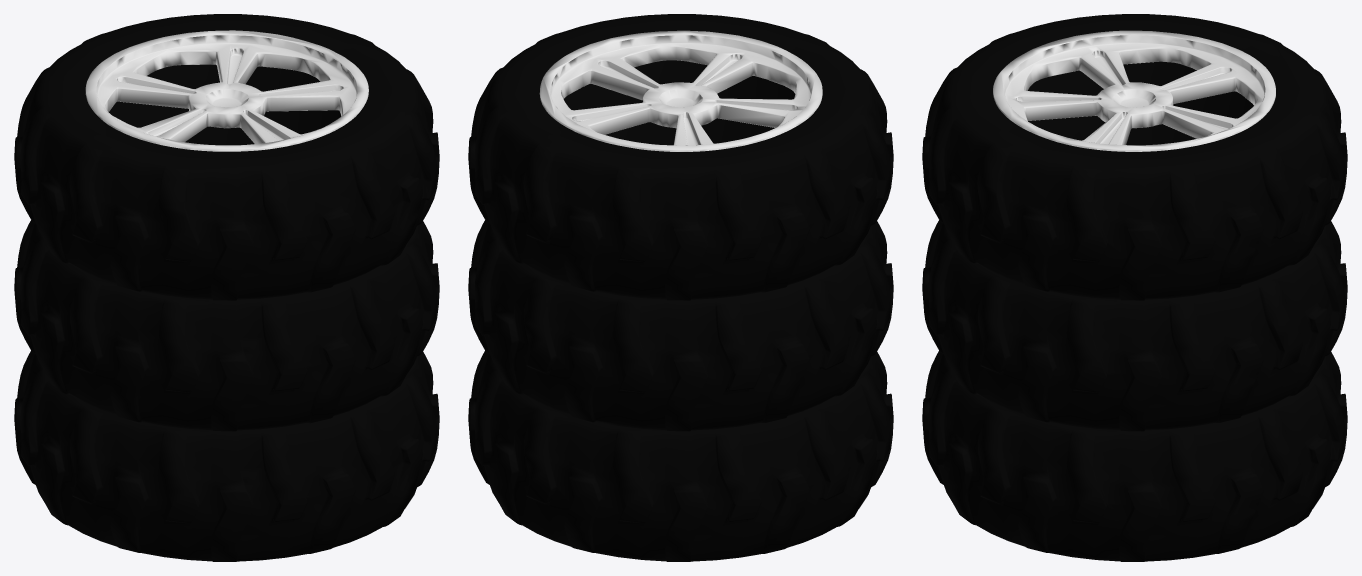
Rendered from Tires.fbx.
3 views of the same model, side by side, from view 1: azimuth 30°, elevation 25°; view 2: azimuth 150°, elevation 25°; view 3: azimuth 270°, elevation 25° (orthographic).
Parts seen in each view (by area): view 1: 20881_Stacked_Tires_with_Rims_v2; view 2: 20881_Stacked_Tires_with_Rims_v2; view 3: 20881_Stacked_Tires_with_Rims_v2.
Boxes of the visible parts, bbox=[...] form: 20881_Stacked_Tires_with_Rims_v2: bbox=[14, 14, 439, 561]; 20881_Stacked_Tires_with_Rims_v2: bbox=[468, 14, 893, 561]; 20881_Stacked_Tires_with_Rims_v2: bbox=[922, 14, 1347, 561].
Size of the model in its own units: 5.96 by 6.05 by 5.96.
